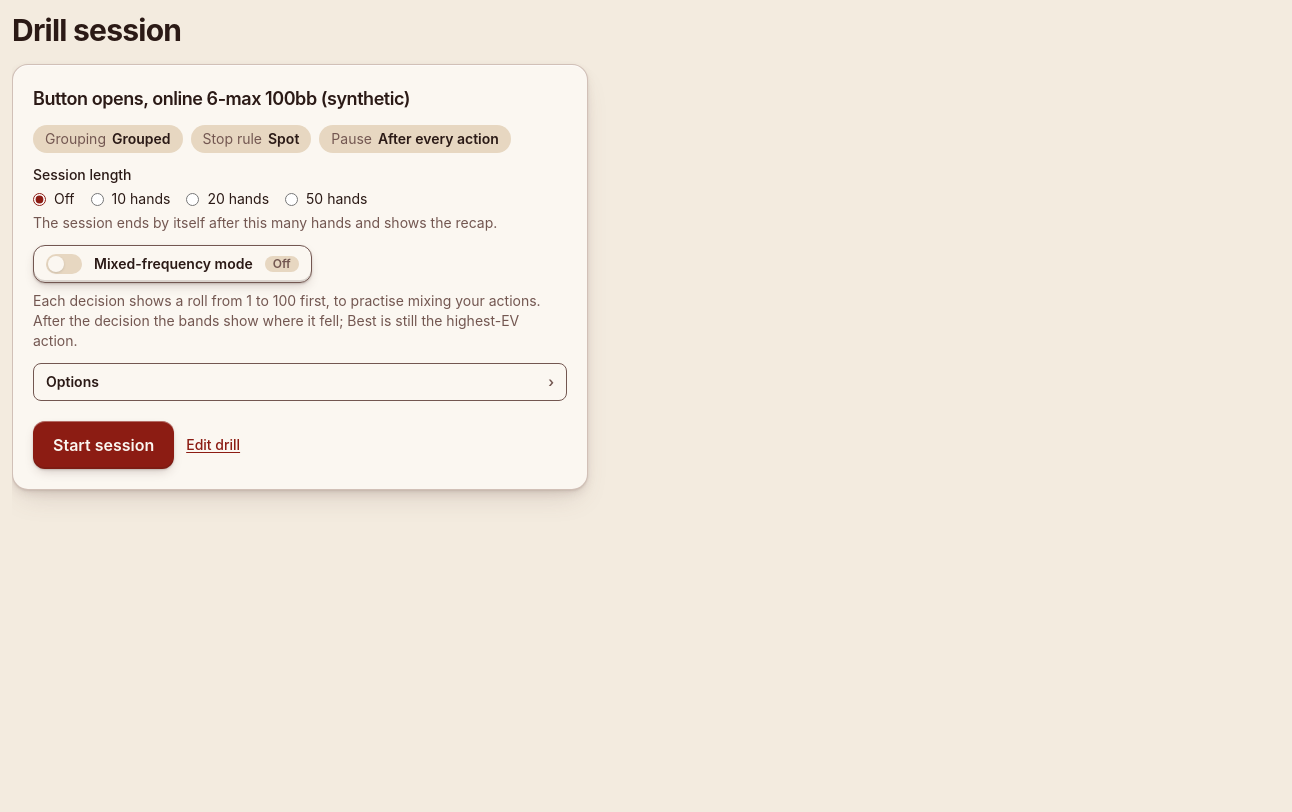
Test: R3.4 Start again on coverage_added › R3.4 a batch of events at one configuration makes one read (PR #48 review round 3 MEDIUM 6)
This screenshot has width=1292, height=812.
Expected: the heading "Button opens, online 6-max 100bb (synthetic)" is shown, 33,85 -> 410,113
Click the button "Start session".
click(104, 445)  # box 33,421 -> 174,469
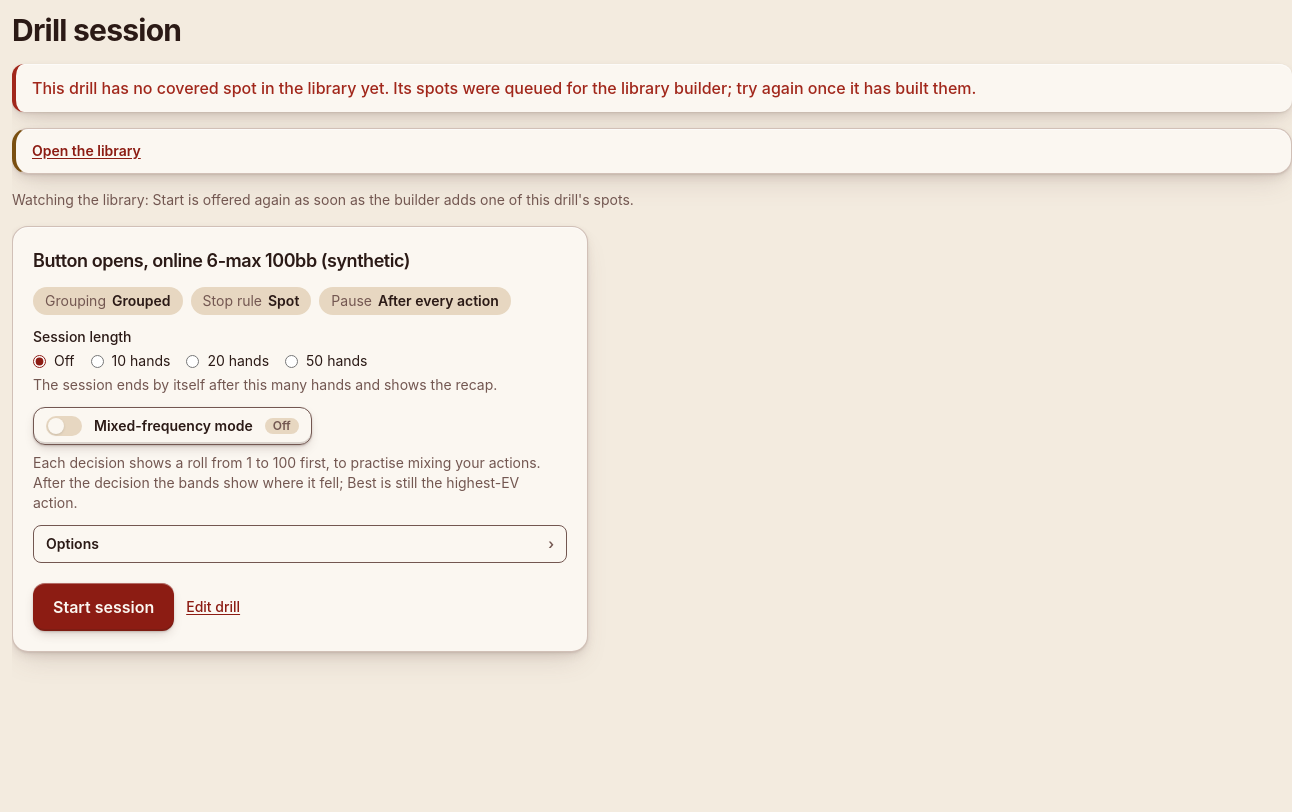
Expected: the 1st message is shown, 12,64 -> 1291,112
